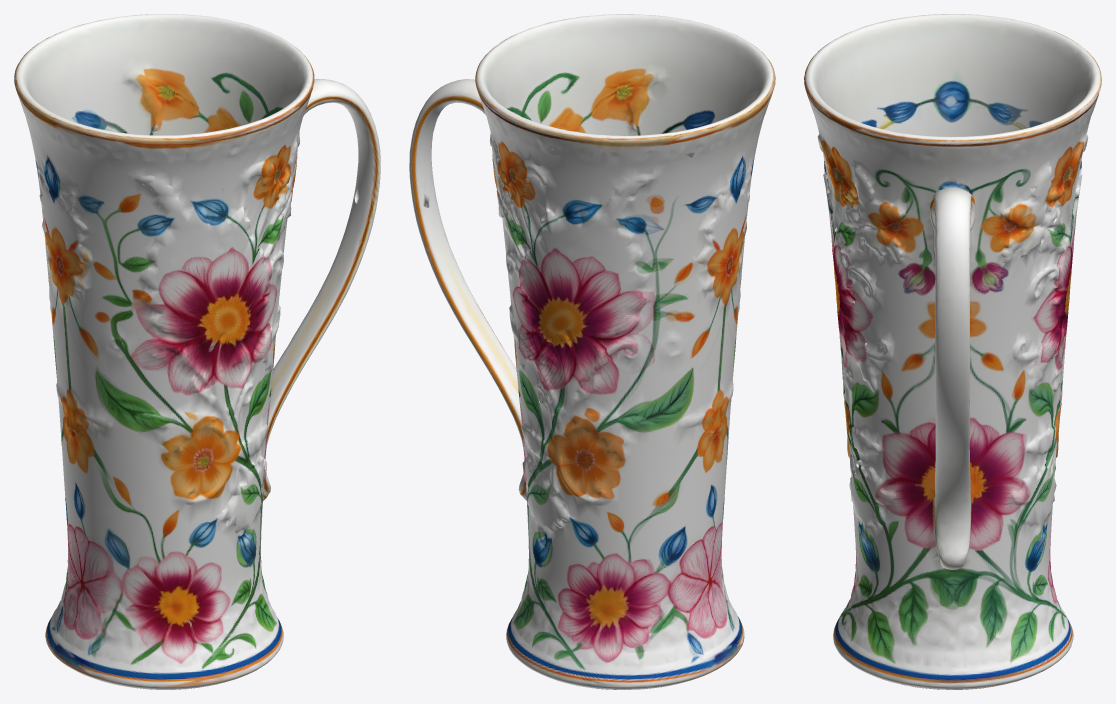
Rendered from cousin_6.glb.
3 views of the same model, side by side, from view 1: azimuth 30°, elevation 25°; view 2: azimuth 150°, elevation 25°; view 3: azimuth 270°, elevation 25° (orthographic).
Bounding box in the file's own units: 1.2 × 1.91 × 0.907.
Materials: 1 (1 with a texture image).
